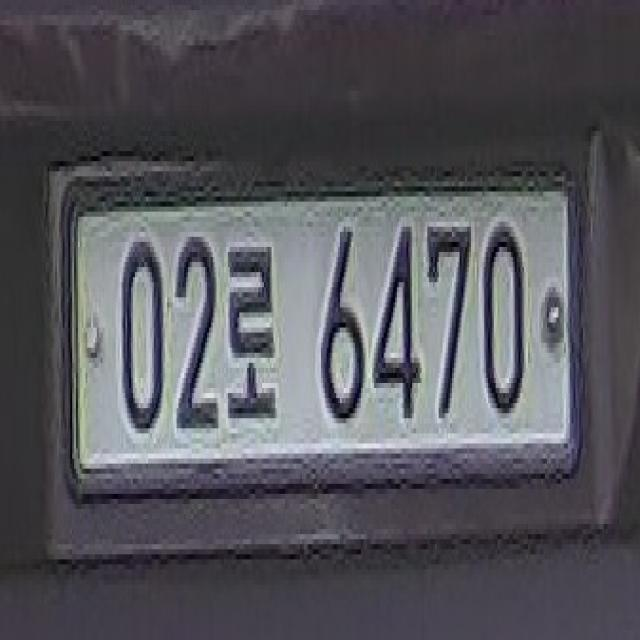0: (476, 214, 534, 432), (118, 228, 166, 438)
2: (168, 228, 224, 452)
4: (372, 218, 424, 436)
6: (314, 228, 366, 428)
7: (424, 206, 472, 434)
license_plate: (61, 134, 572, 535)
lo: (226, 238, 290, 430)
